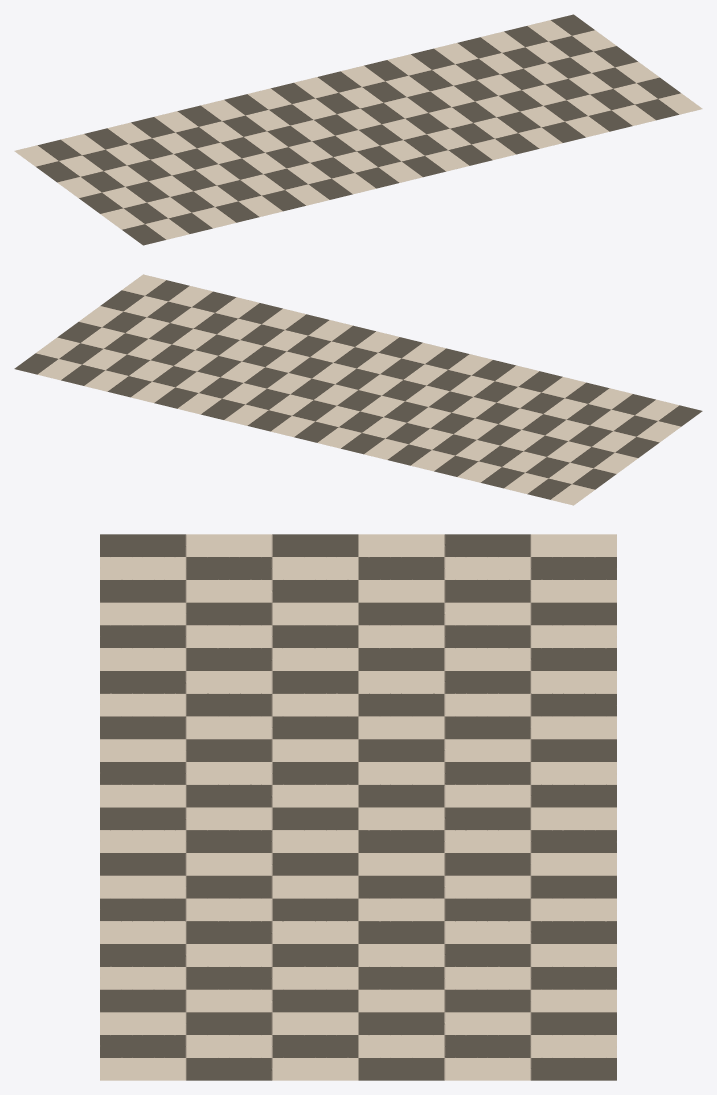
Rendered from anisotropic_plane.obj.
3 views of the same model, one above another, from view 1: azimuth 30°, elevation 25°; view 2: azimuth 150°, elevation 25°; view 3: azimuth 270°, elevation 25° (orthographic). The views are drawn at different scales.
Visible parts, largest first — view 1: anisotropic_plane; view 2: anisotropic_plane; view 3: anisotropic_plane.
Boxes of the visible parts, x1=… form: anisotropic_plane: x1=14, y1=14, x2=702, y2=245; anisotropic_plane: x1=14, y1=274, x2=702, y2=505; anisotropic_plane: x1=100, y1=534, x2=616, y2=1080.
Size of the model in its own units: 20 by 0 by 8.
1 material, 1 textured.
